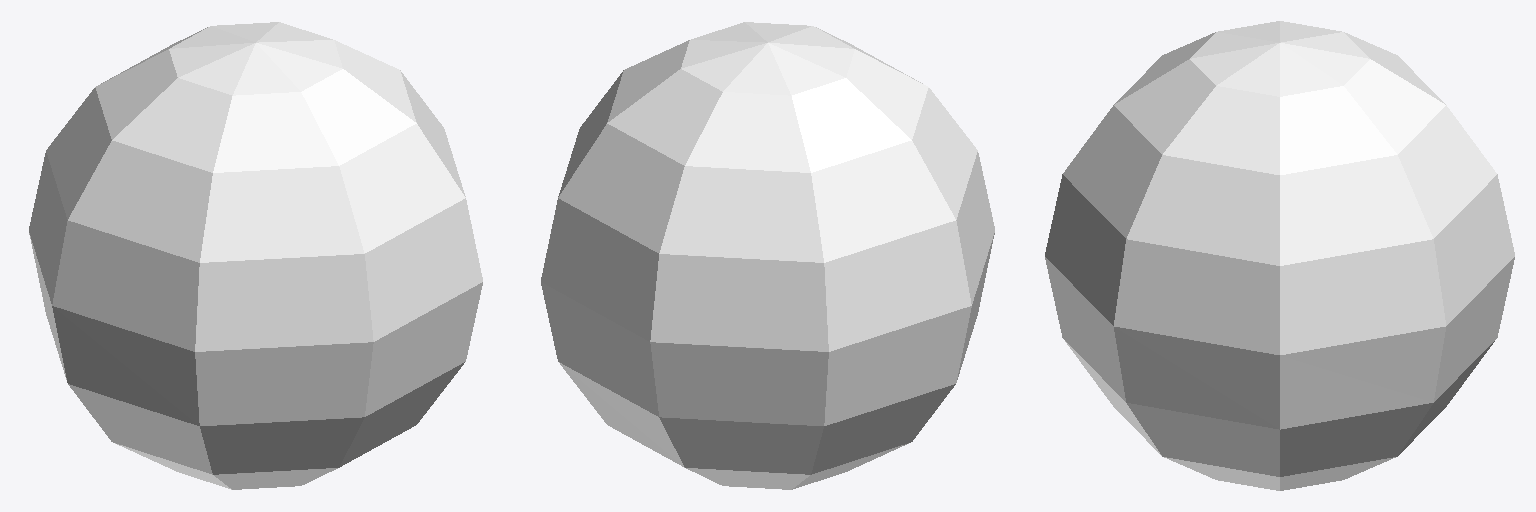
Rendered from planet.obj.
3 renders of one model, left to right at view 1: azimuth 30°, elevation 25°; view 2: azimuth 150°, elevation 25°; view 3: azimuth 270°, elevation 25°, orthographic.
Parts seen in each view (by area): view 1: sphere; view 2: sphere; view 3: sphere.
Part boxes in pixels (x1,y1,x2,y2): sphere: (29,22,482,489); sphere: (541,22,994,489); sphere: (1045,21,1514,490).
Bounding box in the file's own units: 2 × 2 × 2.